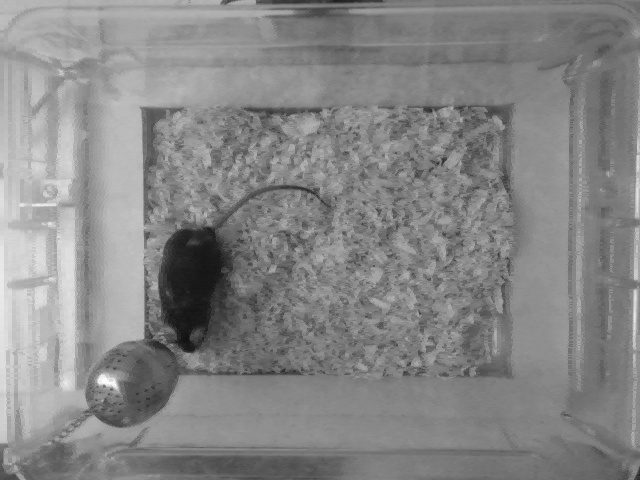mice: (162, 181, 336, 354)
